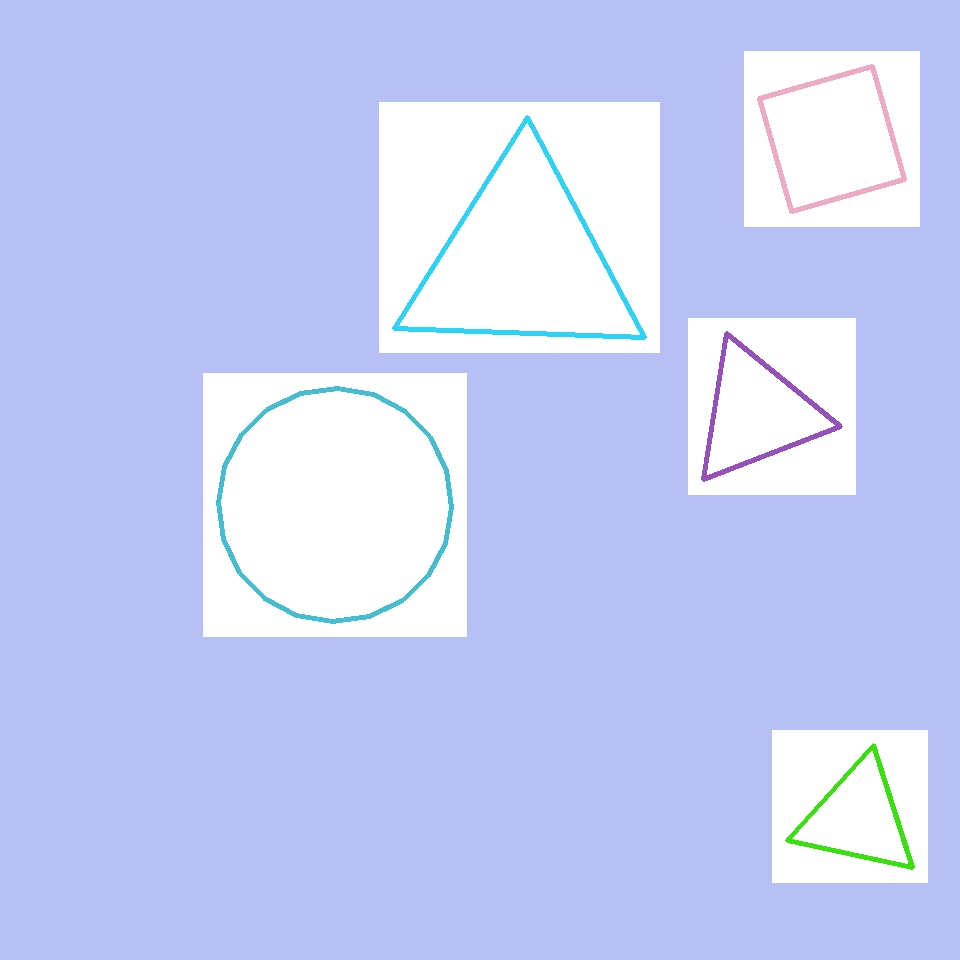circle: (397, 151, 647, 371), (134, 138, 356, 332), (754, 704, 936, 886), (689, 340, 826, 486), (796, 757, 920, 879)
square: (760, 67, 905, 212)
triangle: (218, 388, 451, 622)
